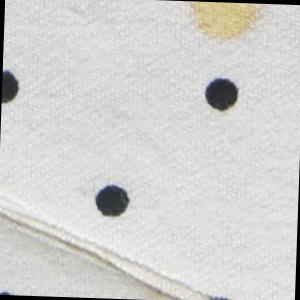Oil Stain: (1, 198, 234, 300)
Stain: (190, 3, 266, 45)
